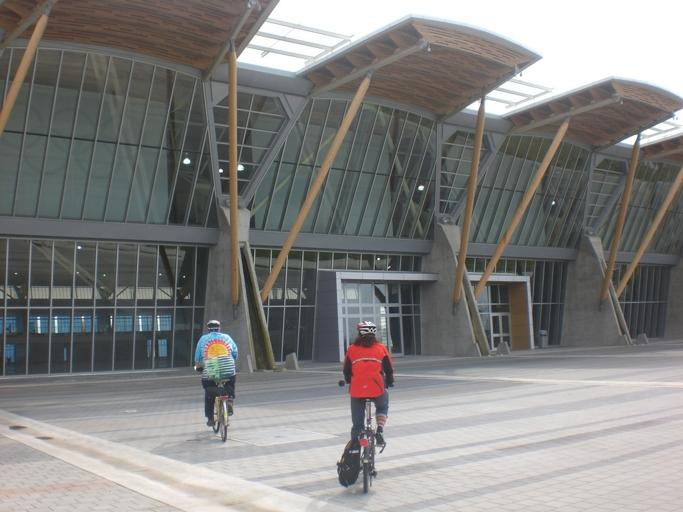non-vehicle: (339, 380, 385, 493), (196, 367, 232, 441)
